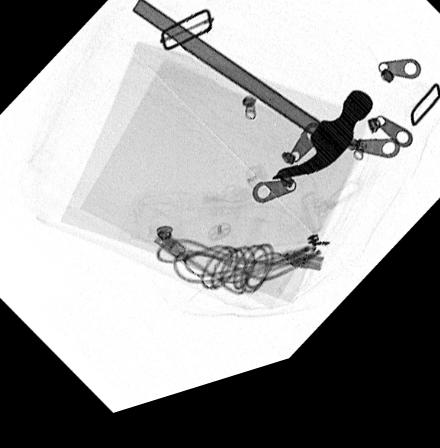Hammer: (131, 6, 372, 197)
